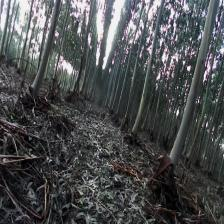trunk: (170, 17, 216, 168), (133, 16, 160, 136), (32, 7, 61, 97)
